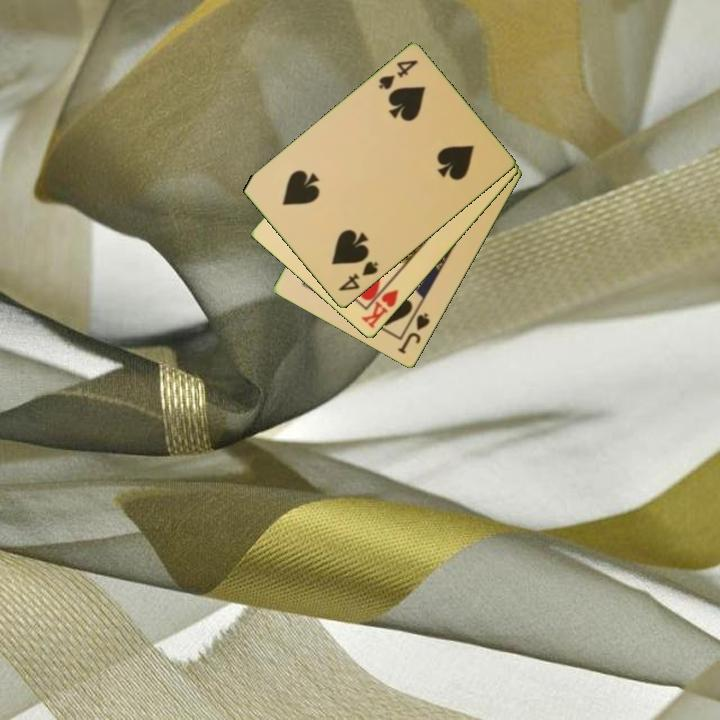4s: (335, 258, 381, 295), (375, 57, 421, 93)
Js: (394, 310, 433, 357)
Kh: (358, 278, 402, 332)
